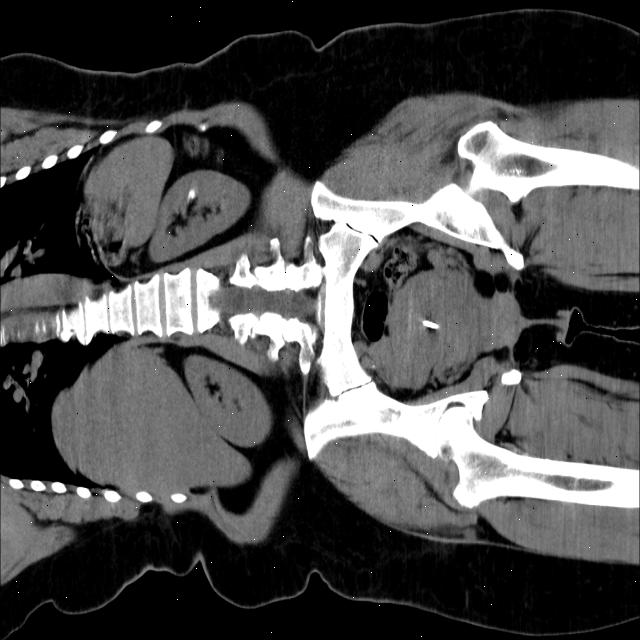kidneystone: (186, 185, 197, 202)
